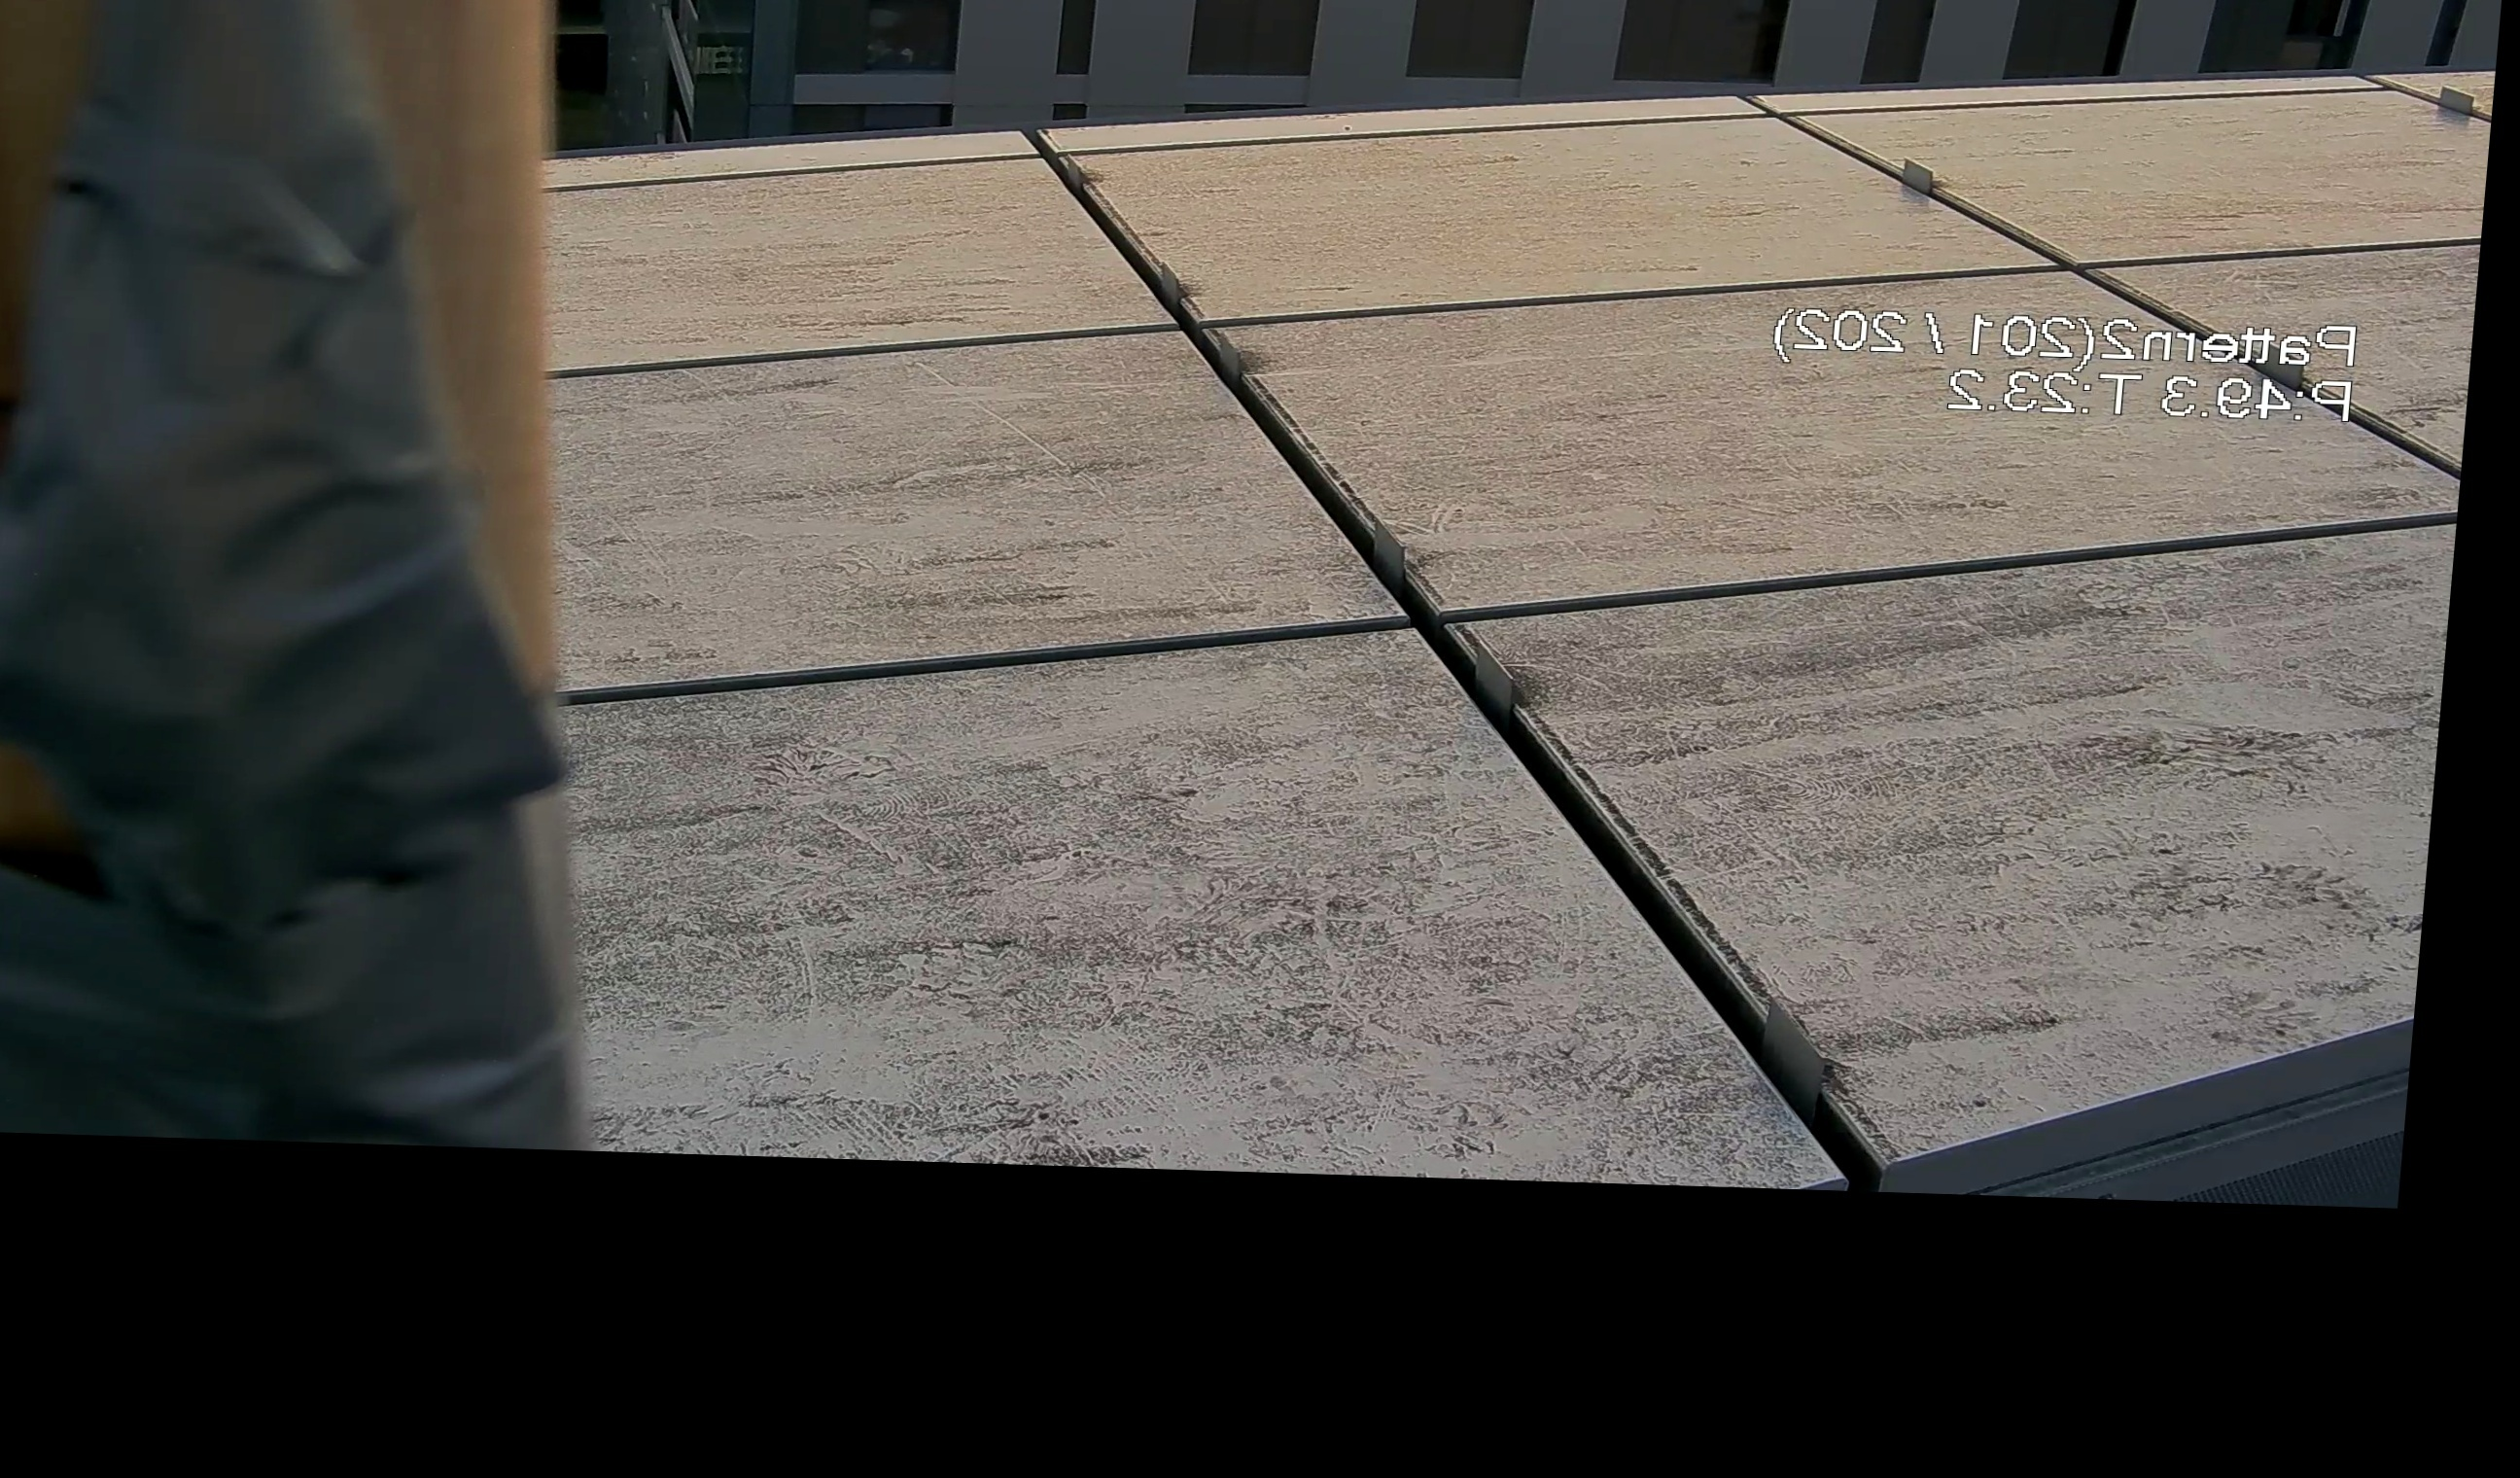Other: (0, 0, 684, 1189)
